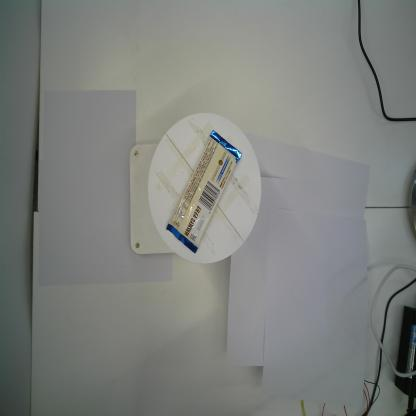Chocolate: (166, 130, 242, 254)
